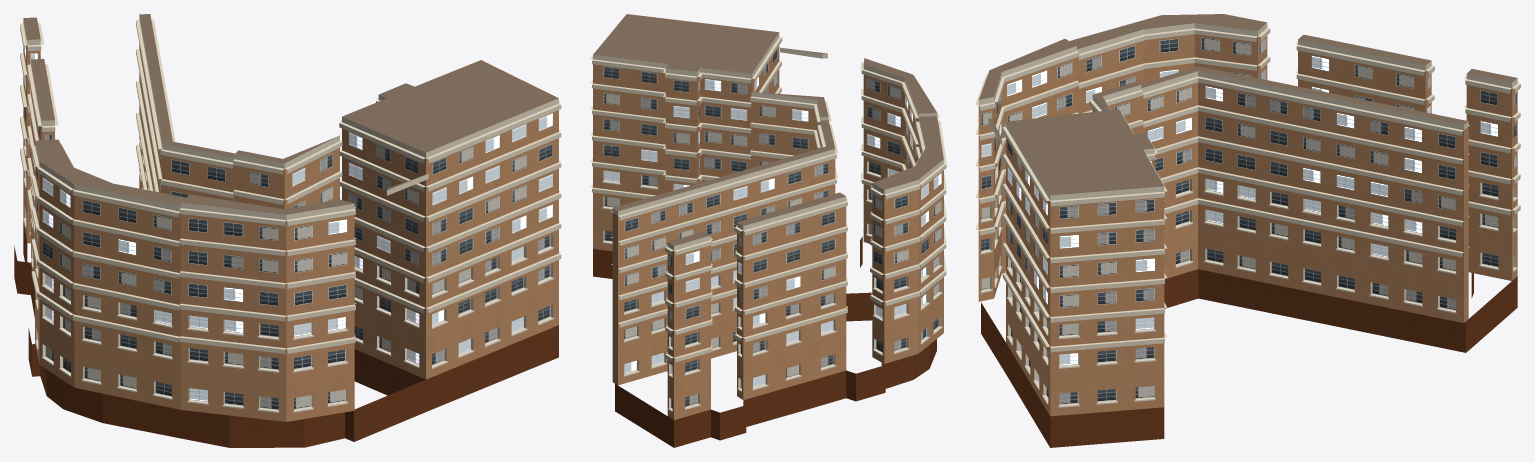
File: z4L_curved_stein.glb
3 views of the same model, side by side, from view 1: azimuth 30°, elevation 25°; view 2: azimuth 150°, elevation 25°; view 3: azimuth 270°, elevation 25° (orthographic). The views are drawn at different scales.
Visible parts, largest first — view 1: z4L_curved_stein; view 2: z4L_curved_stein; view 3: z4L_curved_stein.
Boxes of the visible parts, x1,y1,x2,y2 form: z4L_curved_stein: (14,14,561,447); z4L_curved_stein: (590,14,946,447); z4L_curved_stein: (975,14,1520,447).
Size of the model in its own units: 42.18 by 23.96 by 46.93.
3 materials, 3 textured.
